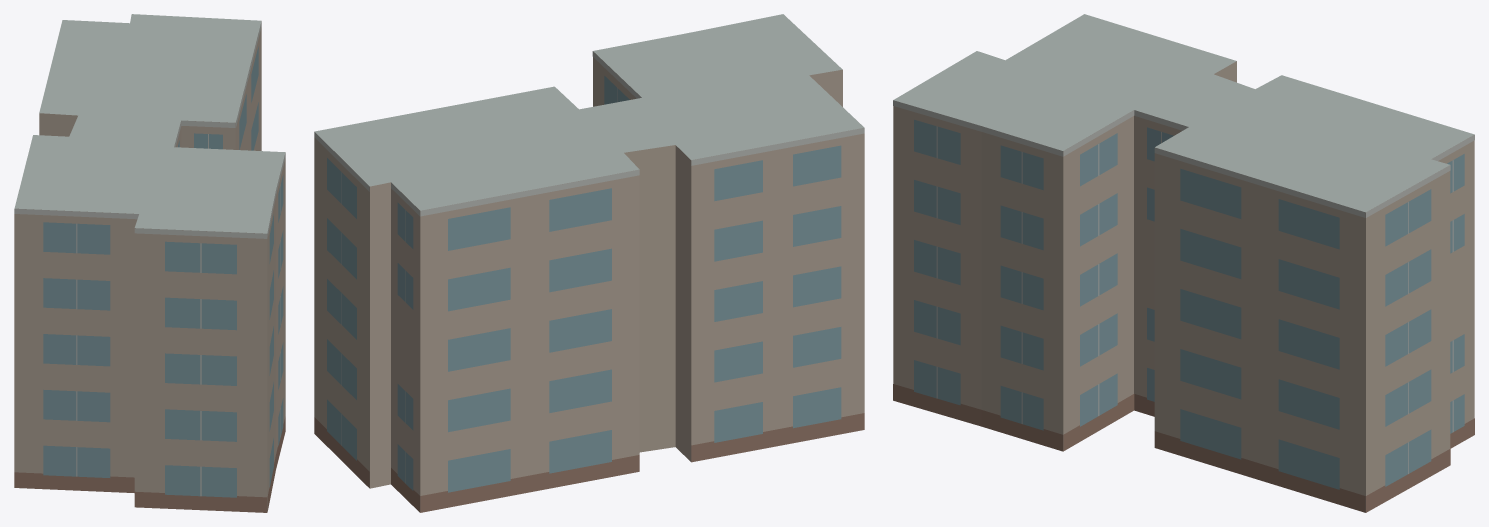
Rendered from survey-upis-33009878.glb.
3 views of the same model, side by side, from view 1: azimuth 30°, elevation 25°; view 2: azimuth 150°, elevation 25°; view 3: azimuth 270°, elevation 25° (orthographic). The views are drawn at different scales.
Parts seen in each view (by area): view 1: survey-upis-33009878.tmp; view 2: survey-upis-33009878.tmp; view 3: survey-upis-33009878.tmp.
Part boxes in pixels (<box>): survey-upis-33009878.tmp: <box>14,14,285,512</box>; survey-upis-33009878.tmp: <box>314,14,864,512</box>; survey-upis-33009878.tmp: <box>893,14,1474,512</box>.
Size of the model in its own units: 18.14 by 12.8 by 22.46.
